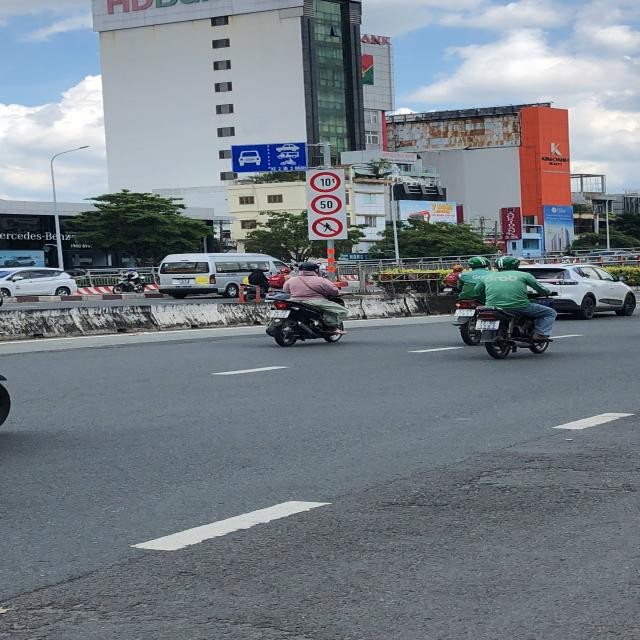Bien bao cam nguoi di bo: (310, 216, 347, 239)
Bien bao toc do toi da cho phep: (310, 194, 344, 214)
